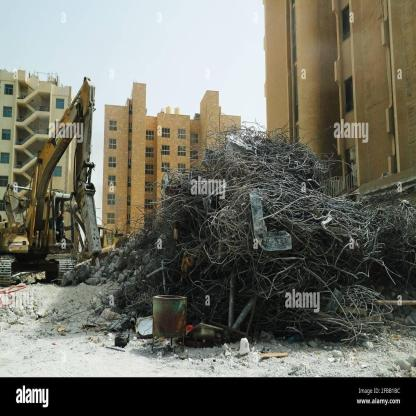rebar: (126, 124, 416, 341)
